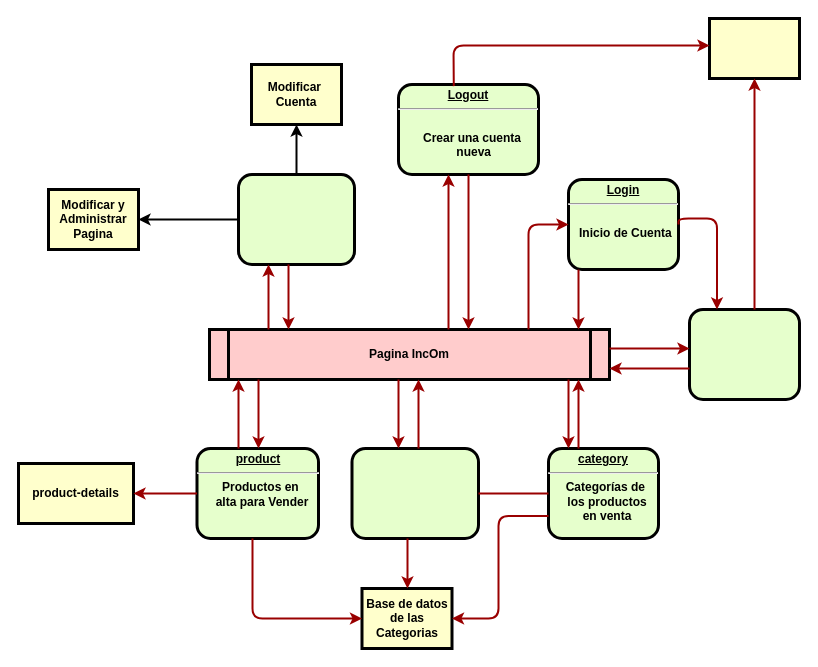
Image size: 818x667. Some labels were removed from this diagram. Here are the shapes that lost their labels. From the top down, the centre of each, then its label:
At [754,48]: "Datos Guardados".
At [296,219]: "Admin Iniciar Sesión".
At [744,354]: "order Compras, Historia de Compras".
At [415,493]: "sub-category Subcategorías de los productos en venta".
